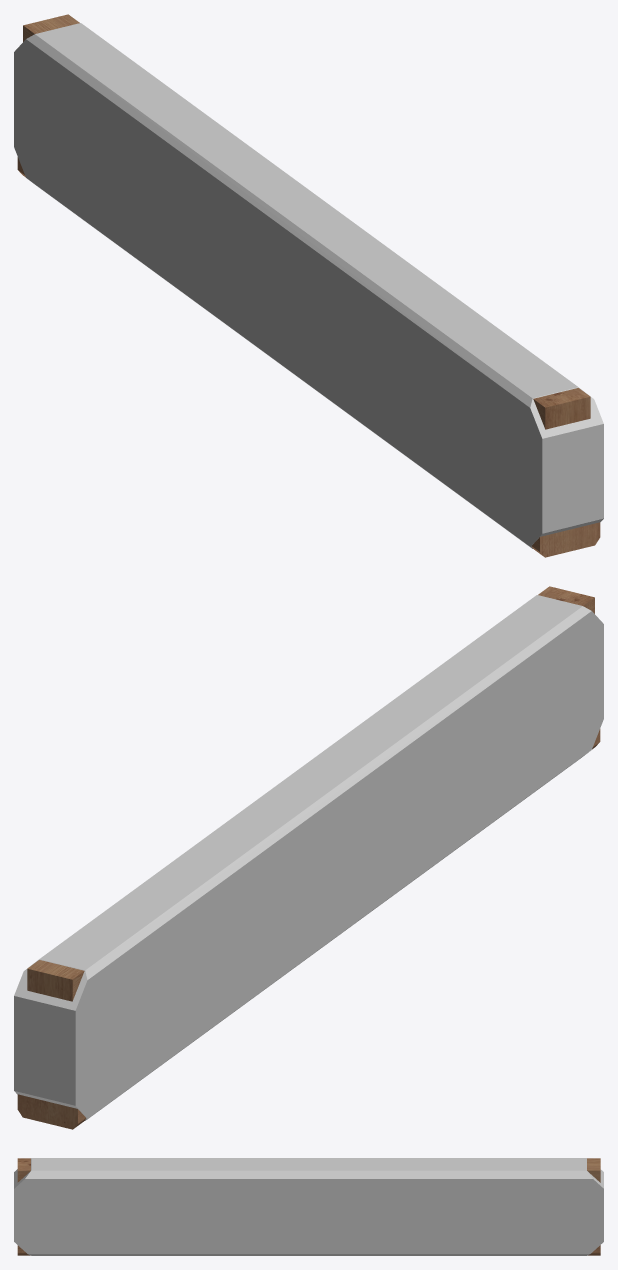
File: SM_HBJ_BeamC.fbx
3 renders of one model, top to bottom at view 1: azimuth 30°, elevation 25°; view 2: azimuth 150°, elevation 25°; view 3: azimuth 270°, elevation 25°, orthographic. The views are drawn at different scales.
Parts seen in each view (by area): view 1: SM_HBJ_BeamC_ConvexHulls, SM_HBJ_BeamC; view 2: SM_HBJ_BeamC_ConvexHulls, SM_HBJ_BeamC; view 3: SM_HBJ_BeamC_ConvexHulls, SM_HBJ_BeamC.
Part boxes in pixels (x1,y1,x2,y2): SM_HBJ_BeamC_ConvexHulls: (14, 23, 603, 548); SM_HBJ_BeamC: (17, 14, 600, 557); SM_HBJ_BeamC_ConvexHulls: (14, 595, 603, 1120); SM_HBJ_BeamC: (17, 586, 600, 1129); SM_HBJ_BeamC_ConvexHulls: (14, 1158, 603, 1255); SM_HBJ_BeamC: (17, 1158, 600, 1255).
Bounding box in the file's own units: 16 × 238 × 37.43.
Materials: 2 (1 with a texture image).
